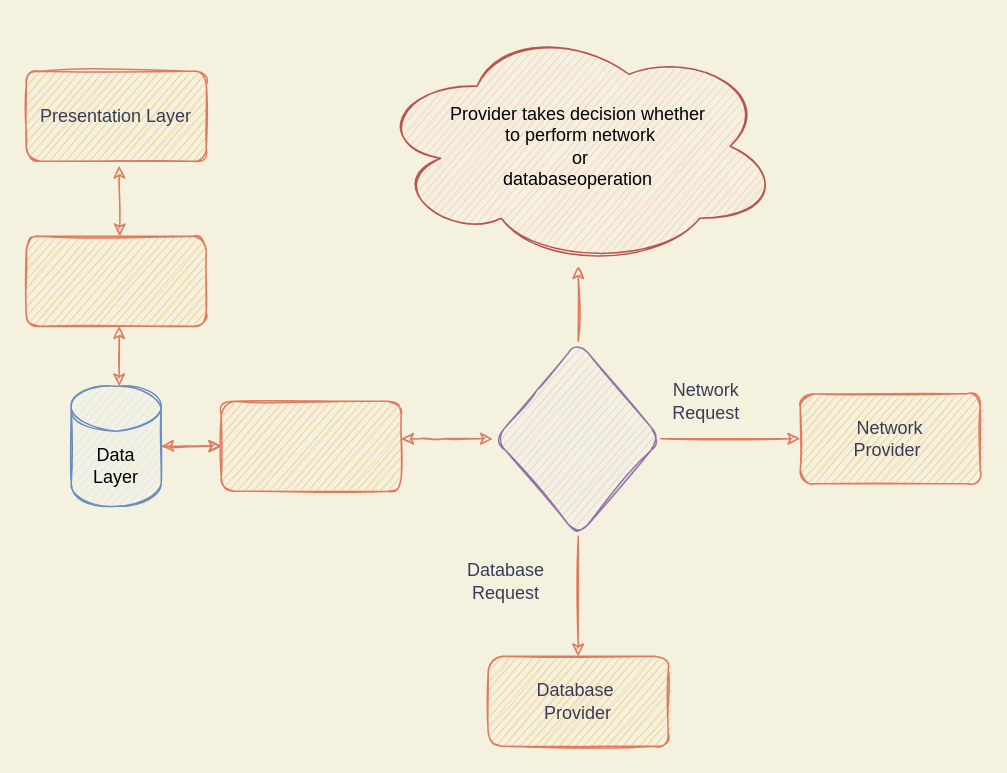
Some shapes in this 1007 by 773 pixel diagram are drawn without their labels. Here are the shapes that lost their labels. From the top down, the centre of each, then its label:
At [115,280]: "Domain/Business Layer".
At [310,445]: "Repository".
At [577,438]: "Data Provider Interface".
